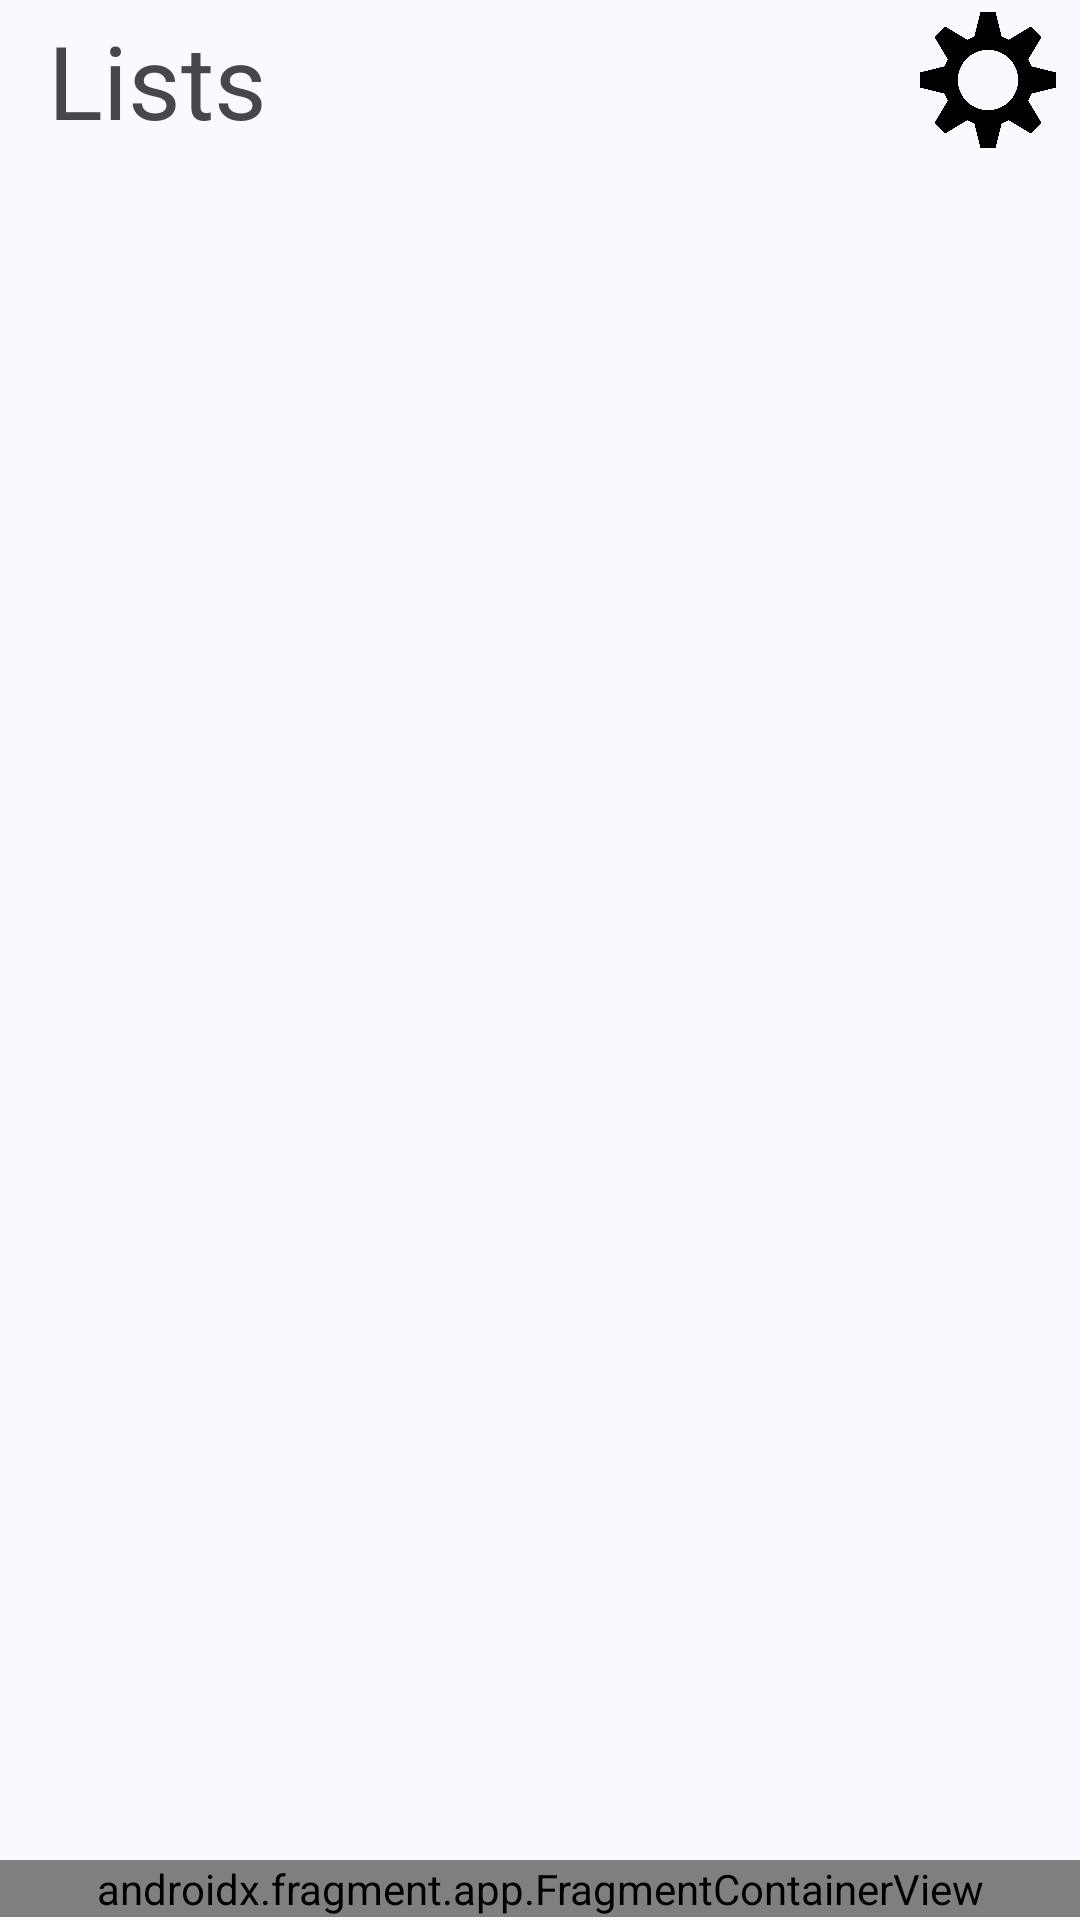

Icons on this 1080x1920 Android screen, each with its box as (x1=x1, y1=y1, x2=x2, y2=y2):
settings: (x1=920, y1=12, x2=1056, y2=148)
